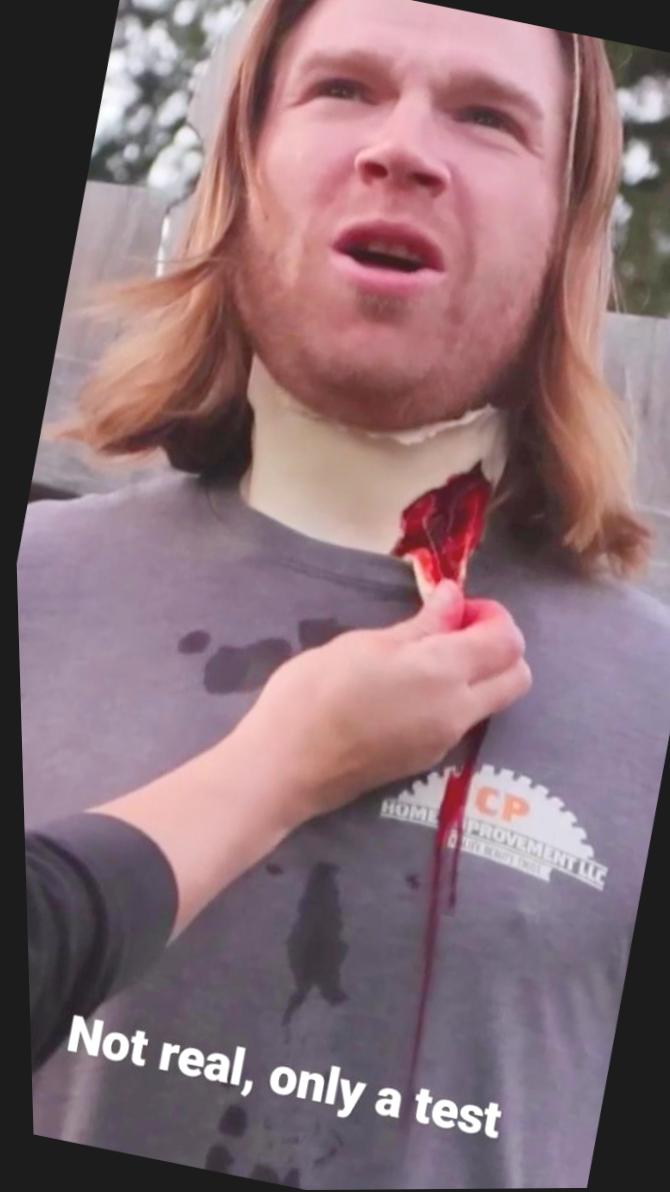Fire: (399, 721, 482, 1090), (387, 463, 489, 596)
